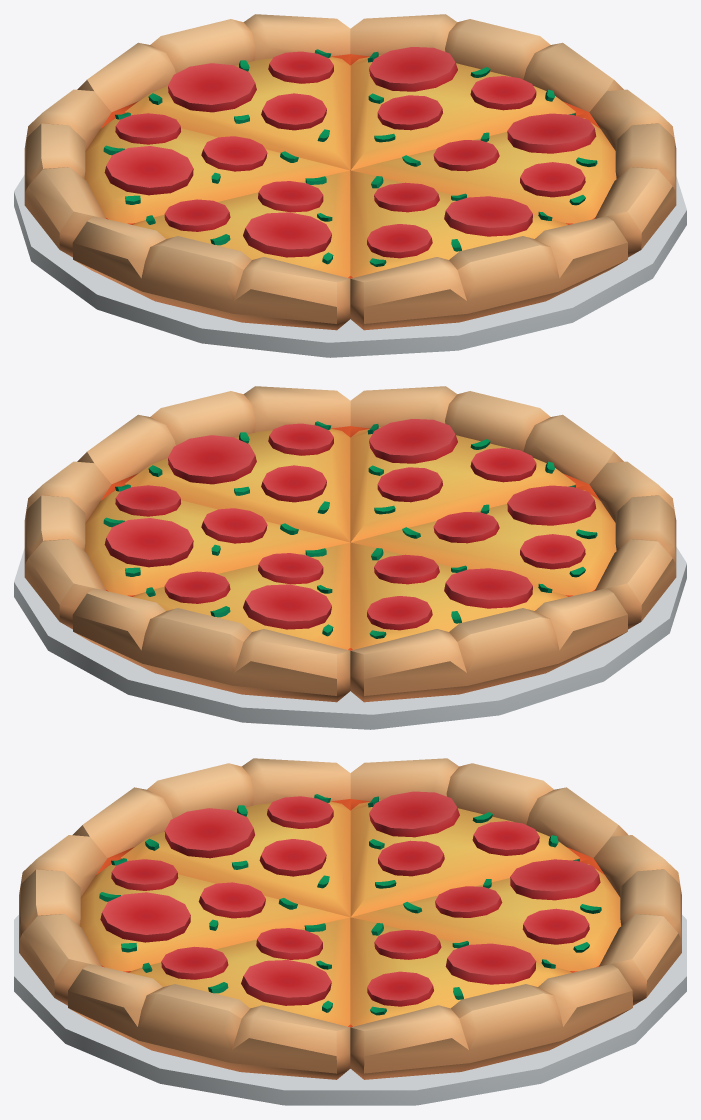
The model's file is food_pizza_pepperoni_plated.obj.
The picture shows the model from 3 angles, top to bottom: view 1: azimuth 30°, elevation 25°; view 2: azimuth 150°, elevation 25°; view 3: azimuth 270°, elevation 25°; orthographic projection.
Parts seen in each view (by area): view 1: food_pizza_pepperoni_plated_Cylinder.217; view 2: food_pizza_pepperoni_plated_Cylinder.217; view 3: food_pizza_pepperoni_plated_Cylinder.217.
Part boxes in pixels (x1=…): food_pizza_pepperoni_plated_Cylinder.217: x1=14, y1=14, x2=686, y2=357; food_pizza_pepperoni_plated_Cylinder.217: x1=14, y1=386, x2=686, y2=729; food_pizza_pepperoni_plated_Cylinder.217: x1=14, y1=758, x2=686, y2=1105.
Bounding box in the file's own units: 2 × 0.3 × 2.
Materials: 1 (1 with a texture image).
